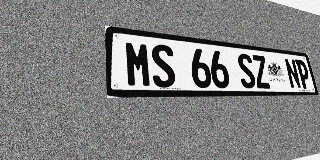6: (189, 48, 213, 88), (208, 50, 231, 88)
M: (124, 41, 153, 87)
N: (284, 58, 302, 89)
P: (295, 59, 312, 89)
S: (150, 43, 177, 88), (236, 53, 257, 88)
Z: (251, 55, 271, 88)
